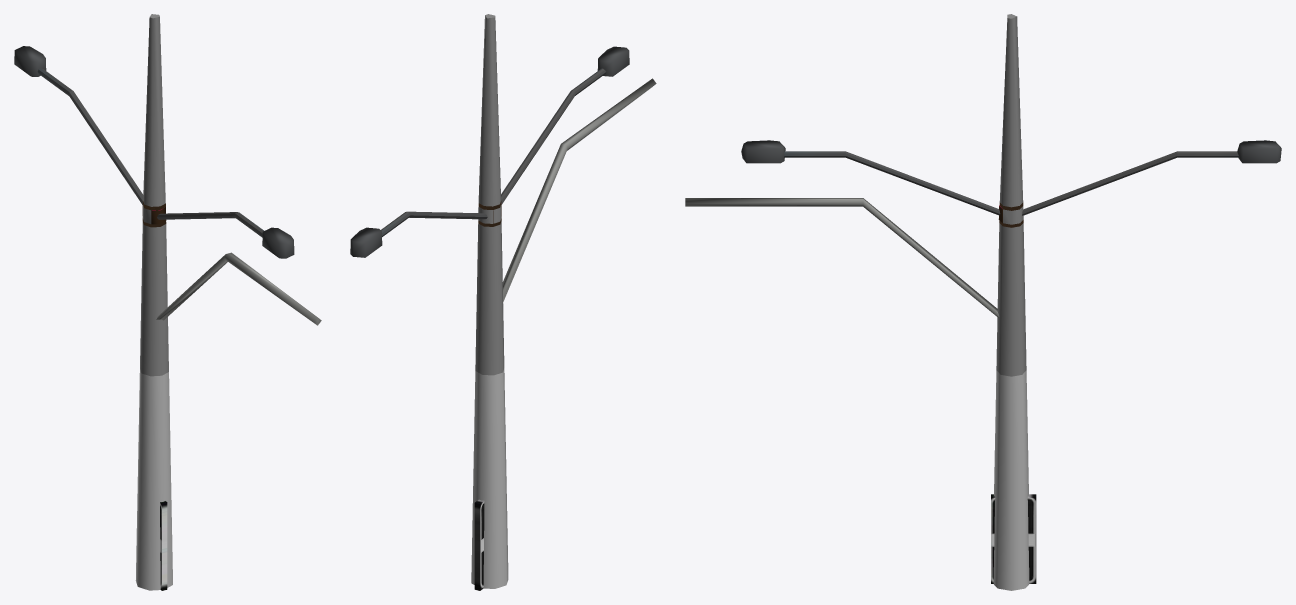
Rendered from sinalizacao.glb.
The picture shows the model from 3 angles, left to right: view 1: azimuth 30°, elevation 25°; view 2: azimuth 150°, elevation 25°; view 3: azimuth 270°, elevation 25°; orthographic projection.
Visible parts, largest first — view 1: poste, semaforo_cabeca; view 2: poste, semaforo_cabeca; view 3: poste, semaforo_cabeca.
Boxes of the visible parts, <box> form: poste: <box>14,14,294,590</box>; semaforo_cabeca: <box>156,252,321,590</box>; poste: <box>350,14,629,588</box>; semaforo_cabeca: <box>474,78,656,590</box>; poste: <box>741,14,1281,590</box>; semaforo_cabeca: <box>685,198,1036,583</box>.
Size of the model in its own units: 0.4081 by 6.61 by 6.31.
2 materials, 2 textured.
